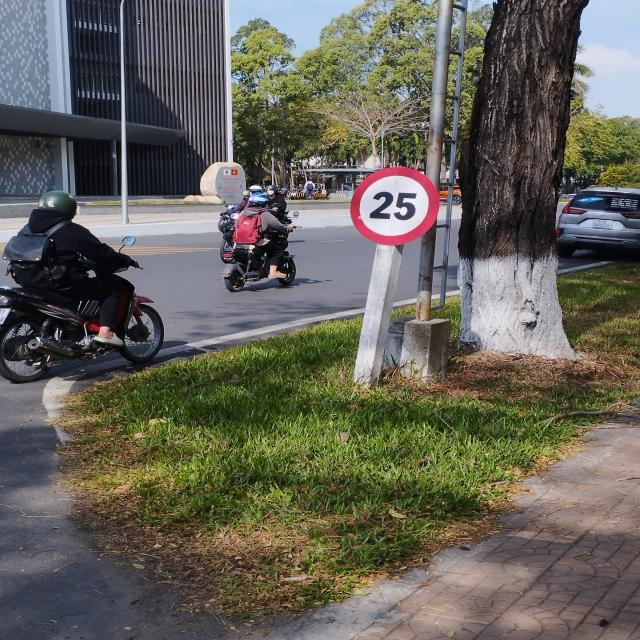Tre_Em: (350, 167, 439, 244)
